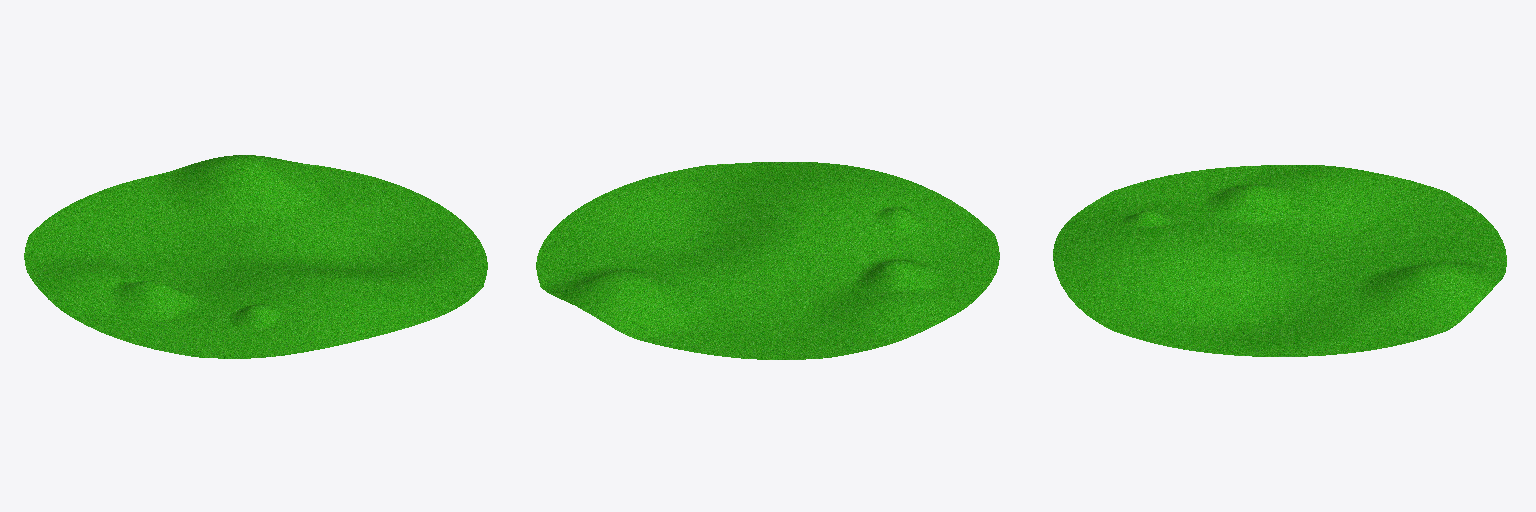
The picture shows the model from 3 angles: view 1: azimuth 30°, elevation 25°; view 2: azimuth 150°, elevation 25°; view 3: azimuth 270°, elevation 25°; orthographic projection.
Visible parts, largest first — view 1: Plane.001_Plane.003; view 2: Plane.001_Plane.003; view 3: Plane.001_Plane.003.
Part boxes in pixels (left/top/right/bottom): Plane.001_Plane.003: left=24, top=155, right=487, bottom=358; Plane.001_Plane.003: left=536, top=162, right=999, bottom=359; Plane.001_Plane.003: left=1053, top=165, right=1506, bottom=356.
Bounding box in the file's own units: 917 × 87.06 × 917.
Materials: 1 (1 with a texture image).